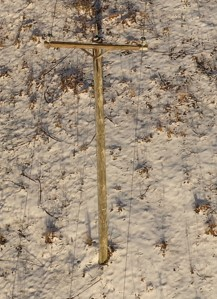pole: (36, 32, 165, 268)
